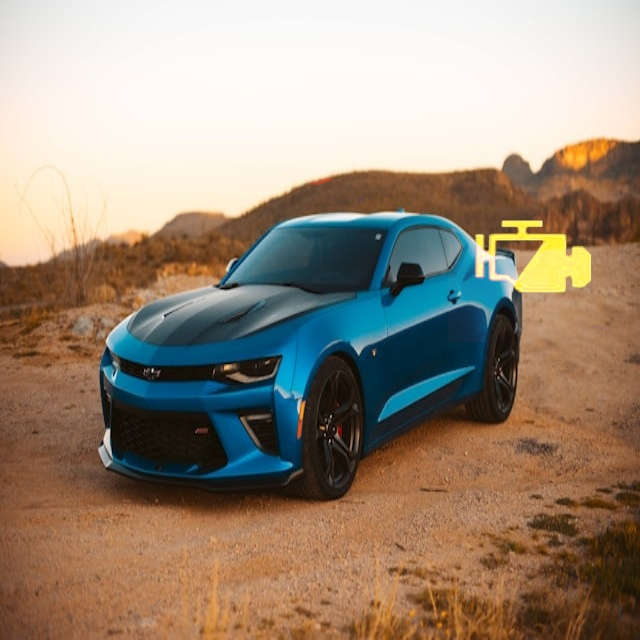symbol: (174, 17, 372, 215), (448, 173, 617, 342)
